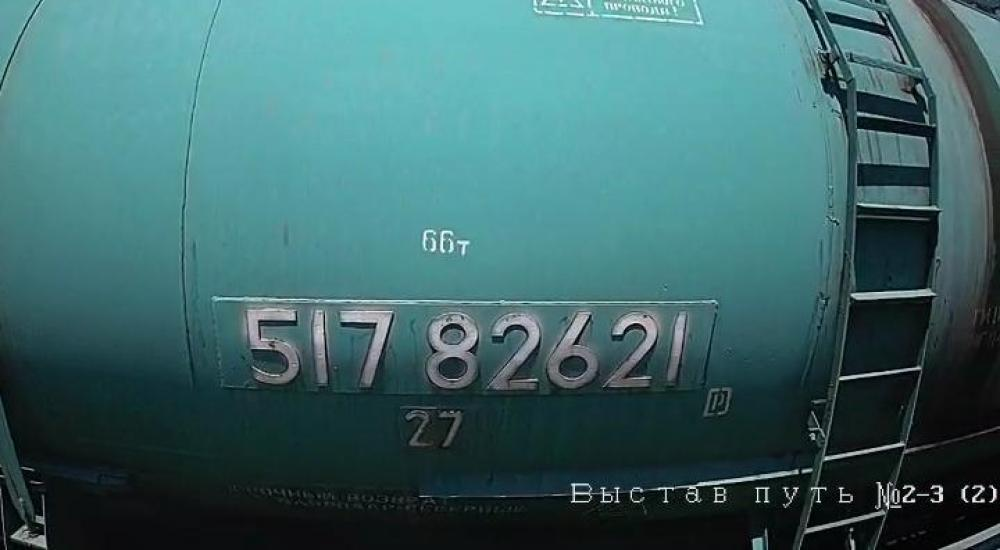Wagon-number: (231, 300, 696, 398)
